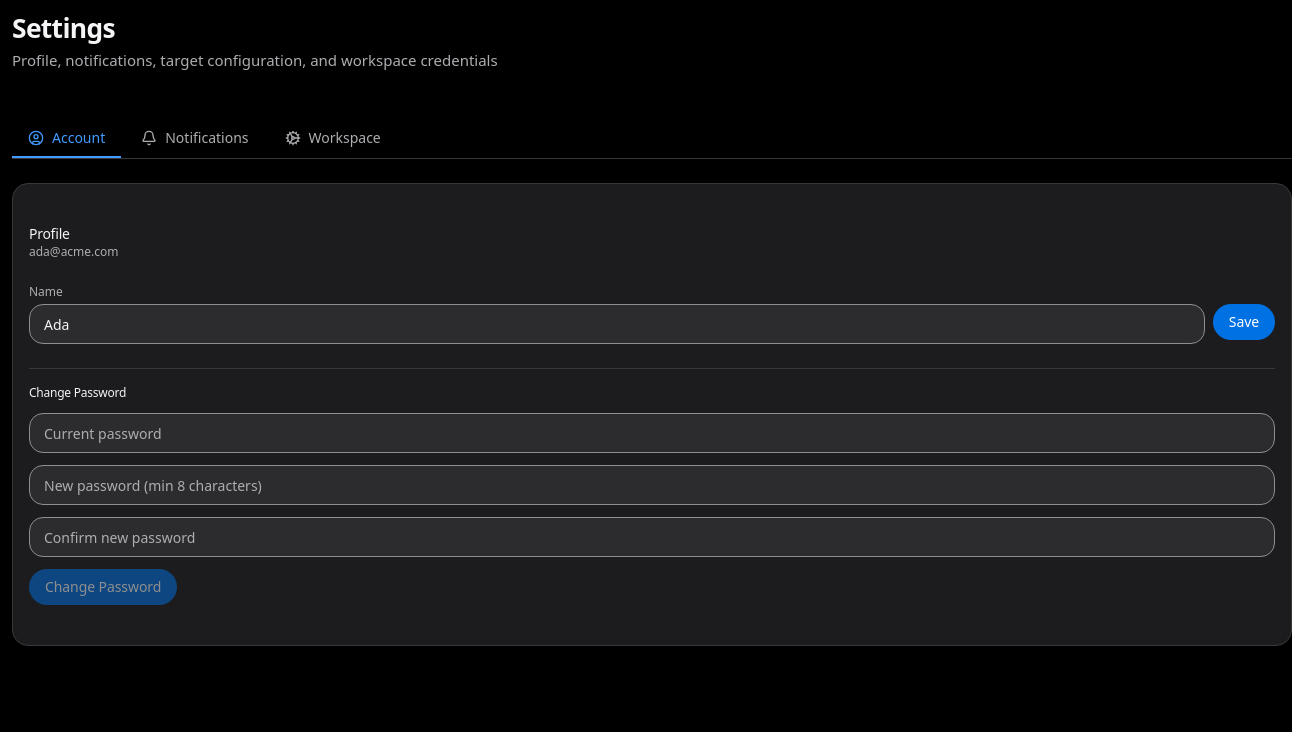
Test: Settings, saving a display name › confirms a save that worked, with no error treatment
The image size is (1292, 732).
Expected: the text "ada@acme.com" is shown, [29,243,119,260]
Replace the text in the field named "Display name" with "Ada Lovelace". click: (617, 324)
box: [29,304,1205,344]
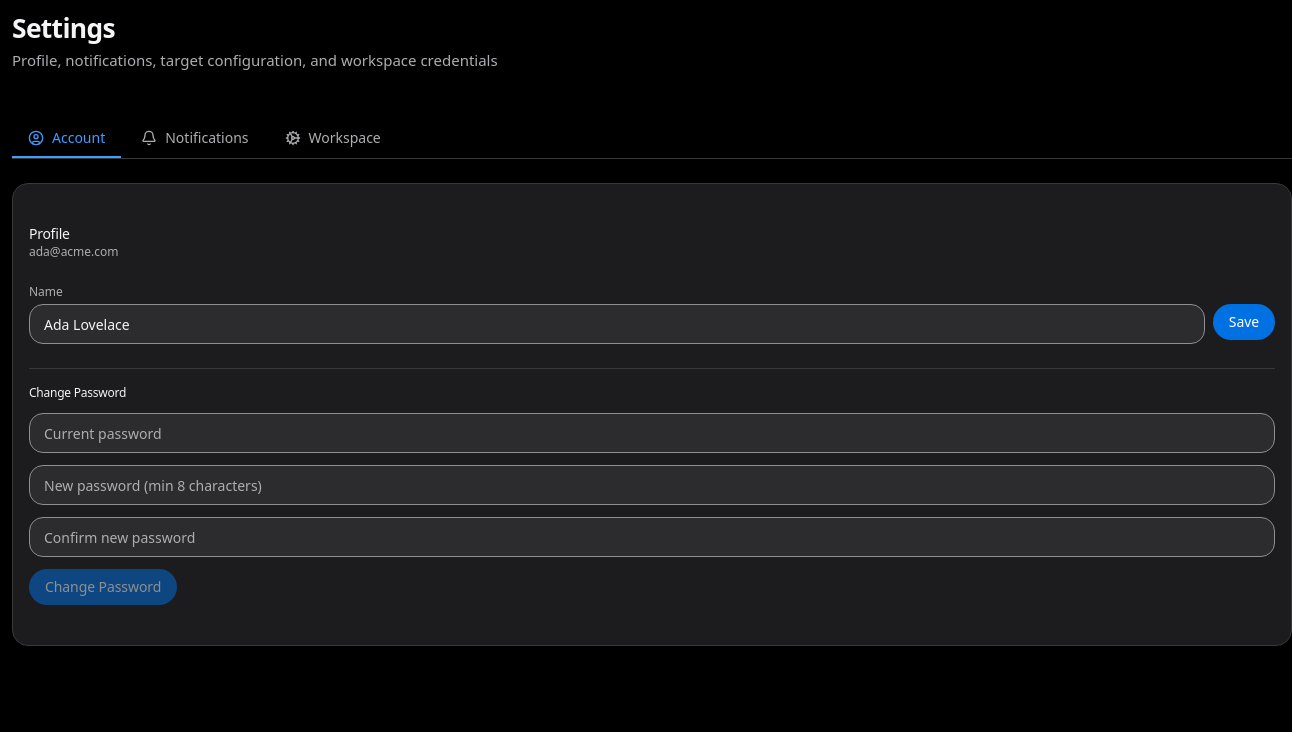
Click the button "Save". click: (1244, 322)
box: [1213,304,1275,340]
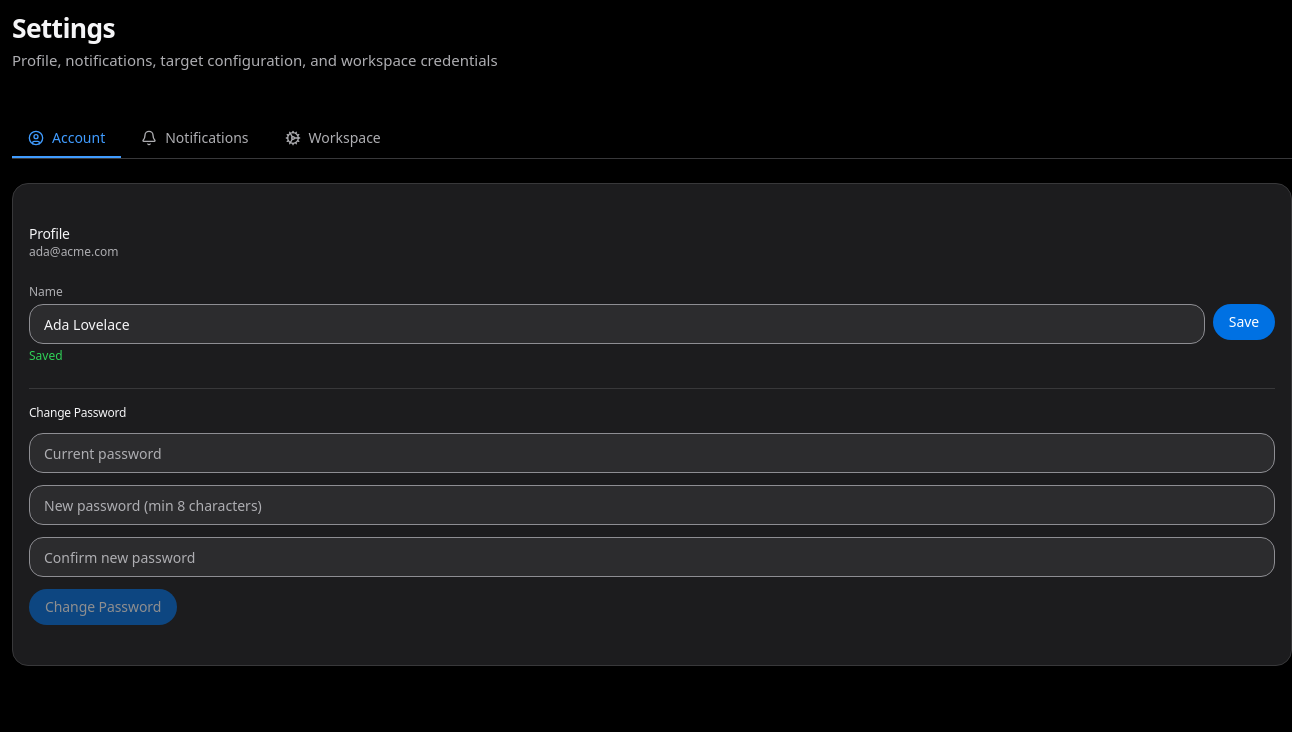
Now the text "Saved" is shown, box [29,347,63,364]
